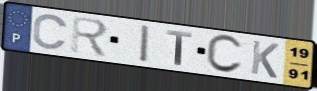C: (204, 33, 245, 75), (31, 13, 70, 51)
I: (138, 23, 151, 64)
K: (249, 39, 281, 81)
R: (70, 15, 111, 60)
T: (166, 28, 194, 67)
